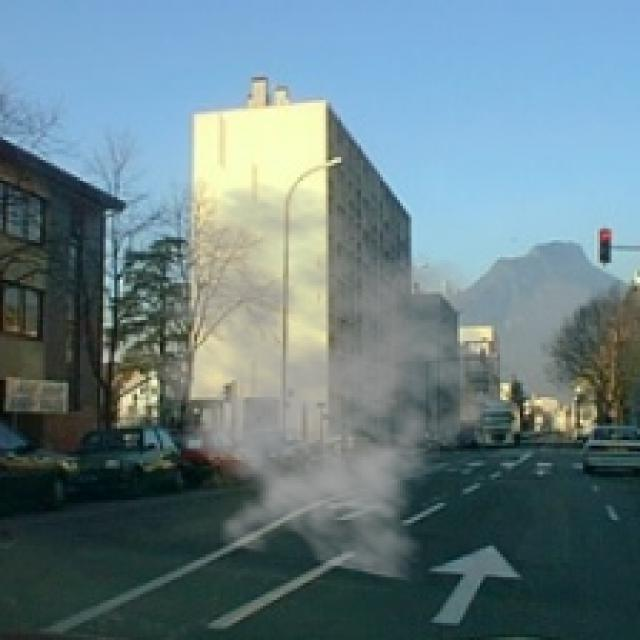Smoke: (111, 180, 520, 583)
